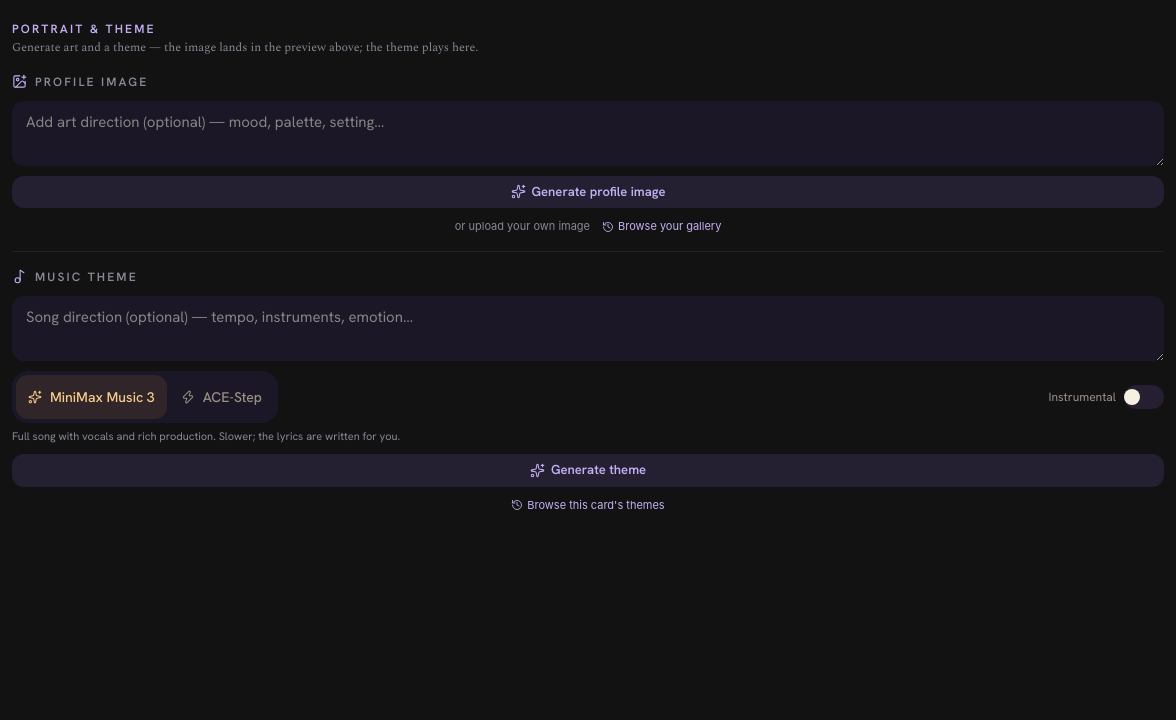
Test case: MediaStudioSection image generation › explains that stopping the wait does not cancel the server job
Click the button "Generate profile image". click: (588, 192)
box: [12,176,1164,208]
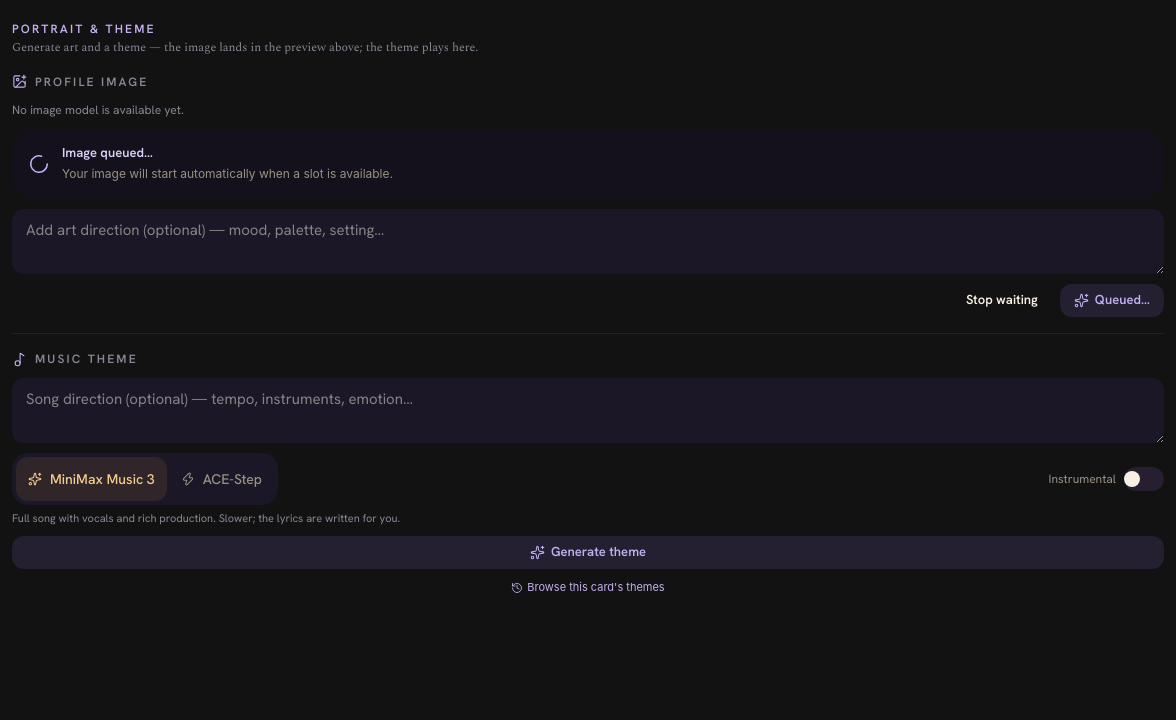
Check: the message shows "Image queued…", box [62,144,153,160]
Click the button "Stop waiting". click: (1002, 301)
box: [952,284,1052,317]
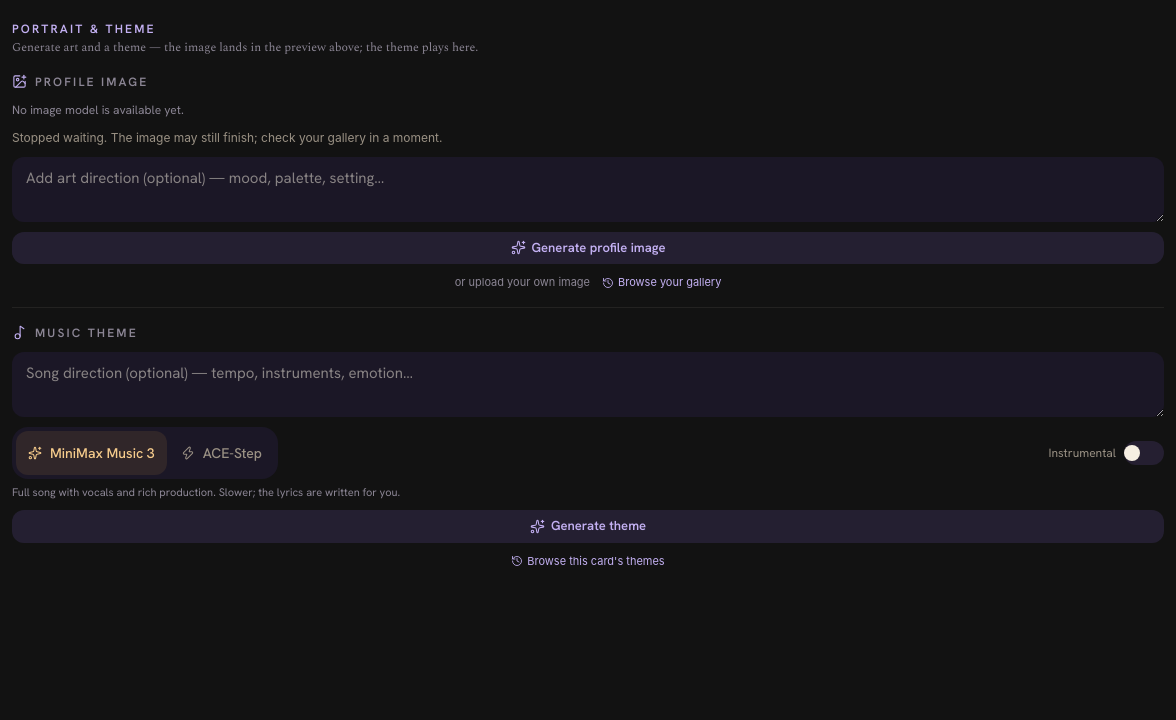
Check: the message shows "check your gallery", box [12,130,442,144]
